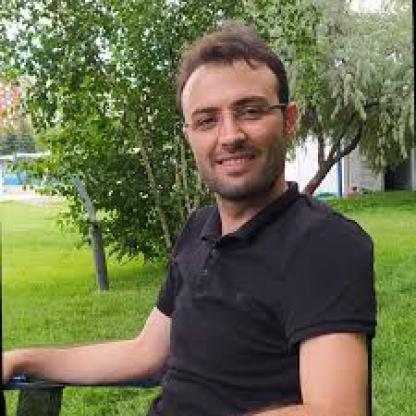person: (167, 25, 303, 202)
